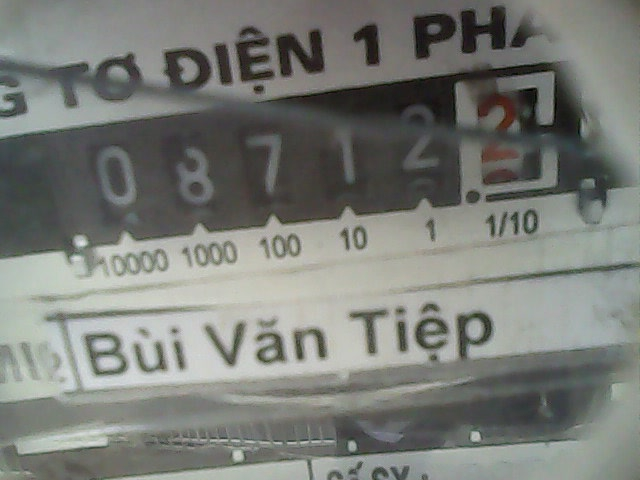phy_plate: (64, 63, 568, 239)
